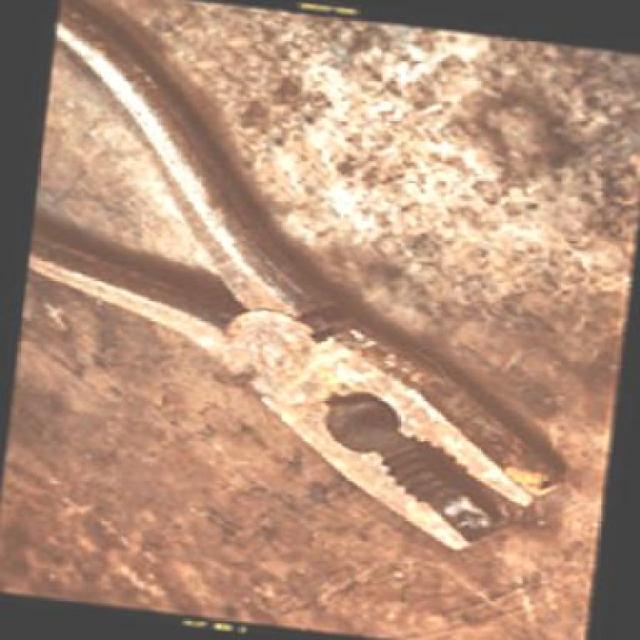pliers: (0, 0, 632, 583)
